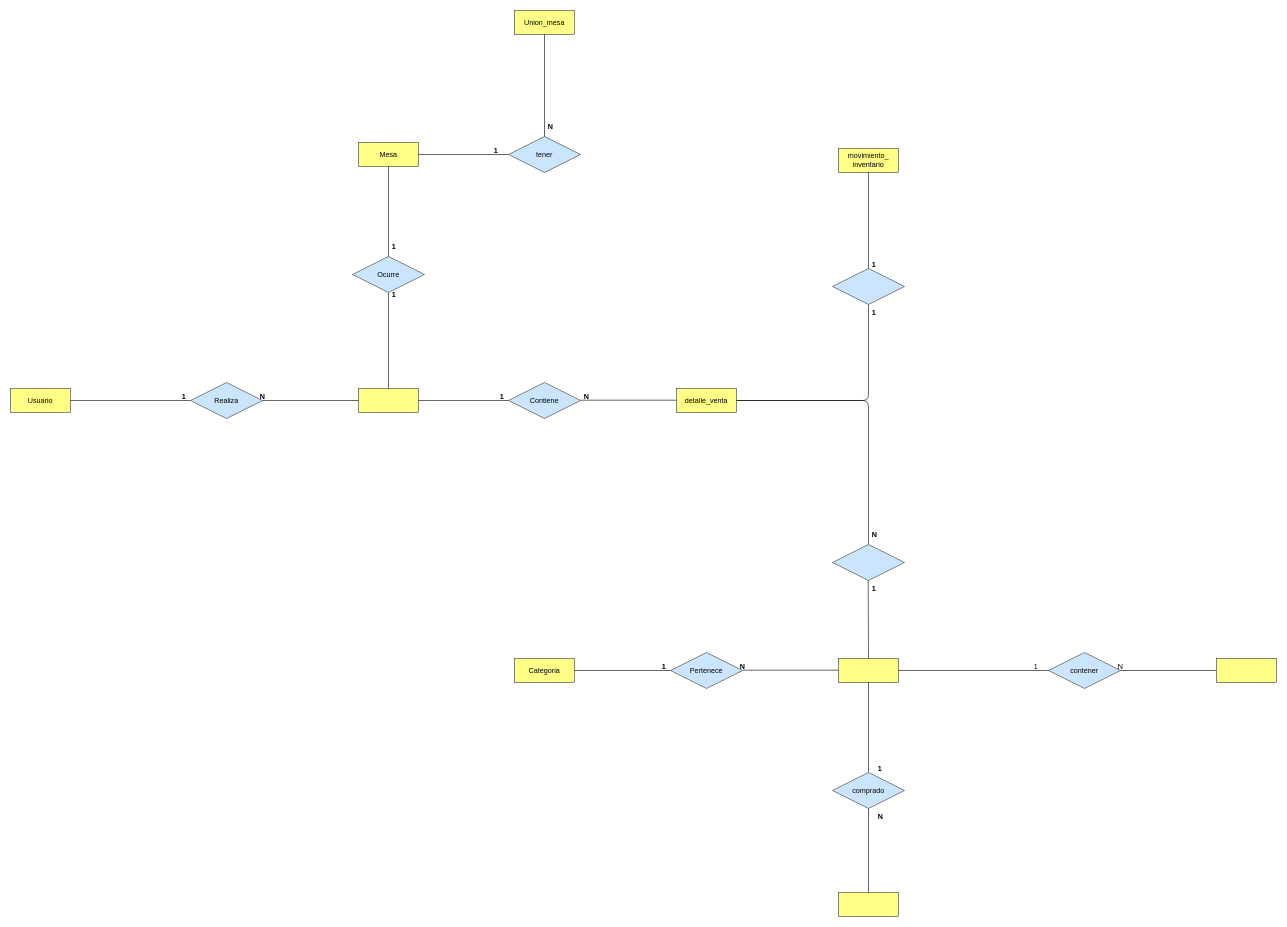
Some shapes in this 1287 by 927 pixel diagram are drawn without their labels. The centre of each missing label's shape, as x and y in pixels:
Corresponde: [868,562]
Plato: [1246,670]
Producto: [868,670]
Proveedor: [868,904]
Registra: [868,286]
Venta: [388,400]
